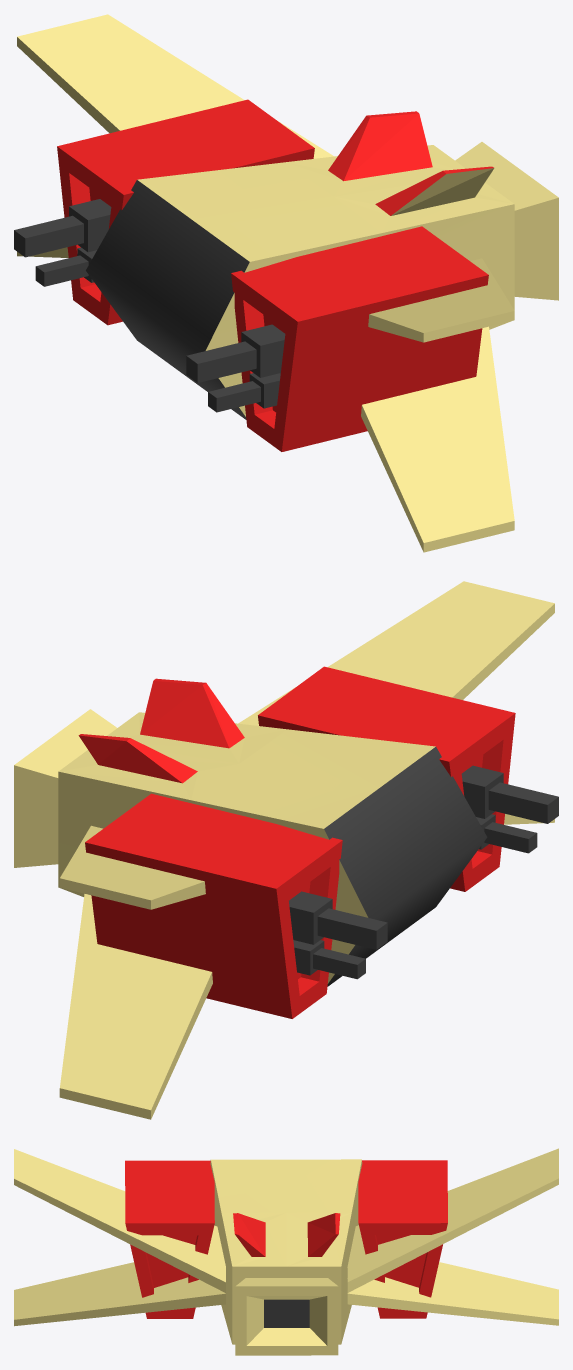
Rendered from Bulldog.FBX.
3 renders of one model, top to bottom at view 1: azimuth 30°, elevation 25°; view 2: azimuth 150°, elevation 25°; view 3: azimuth 270°, elevation 25°, orthographic. The views are drawn at different scales.
Parts seen in each view (by area): view 1: Spaceship 1; view 2: Spaceship 1; view 3: Spaceship 1.
Part boxes in pixels (x1,y1,x2,y2): Spaceship 1: [14, 14, 558, 552]; Spaceship 1: [14, 581, 558, 1119]; Spaceship 1: [14, 1148, 558, 1355].
Size of the model in its own units: 40.57 by 20.47 by 68.57.
